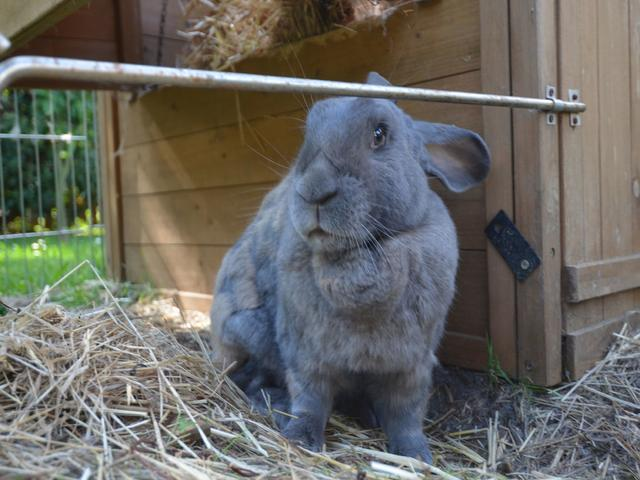rabbit: (155, 50, 528, 478)
